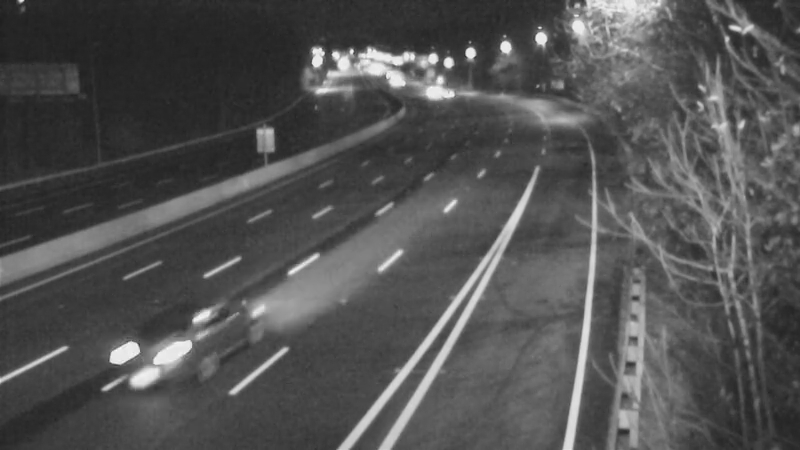vehicle: (101, 294, 211, 404), (400, 64, 450, 114), (420, 69, 470, 119)
